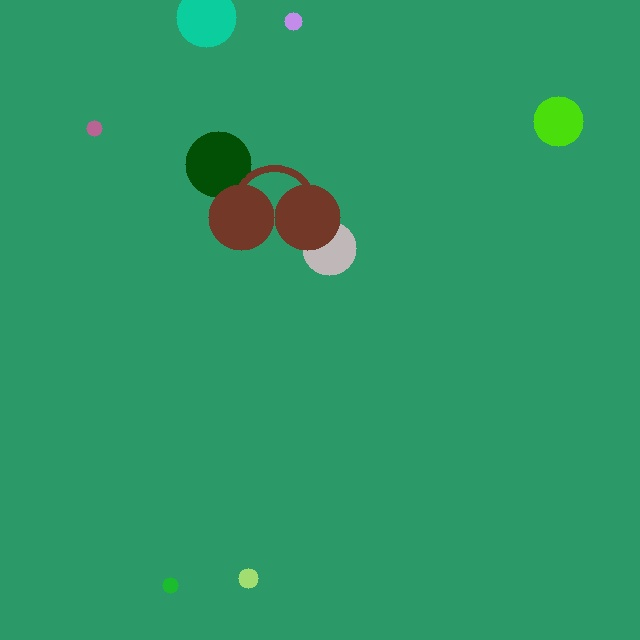over_ear: (204, 160, 344, 254)
